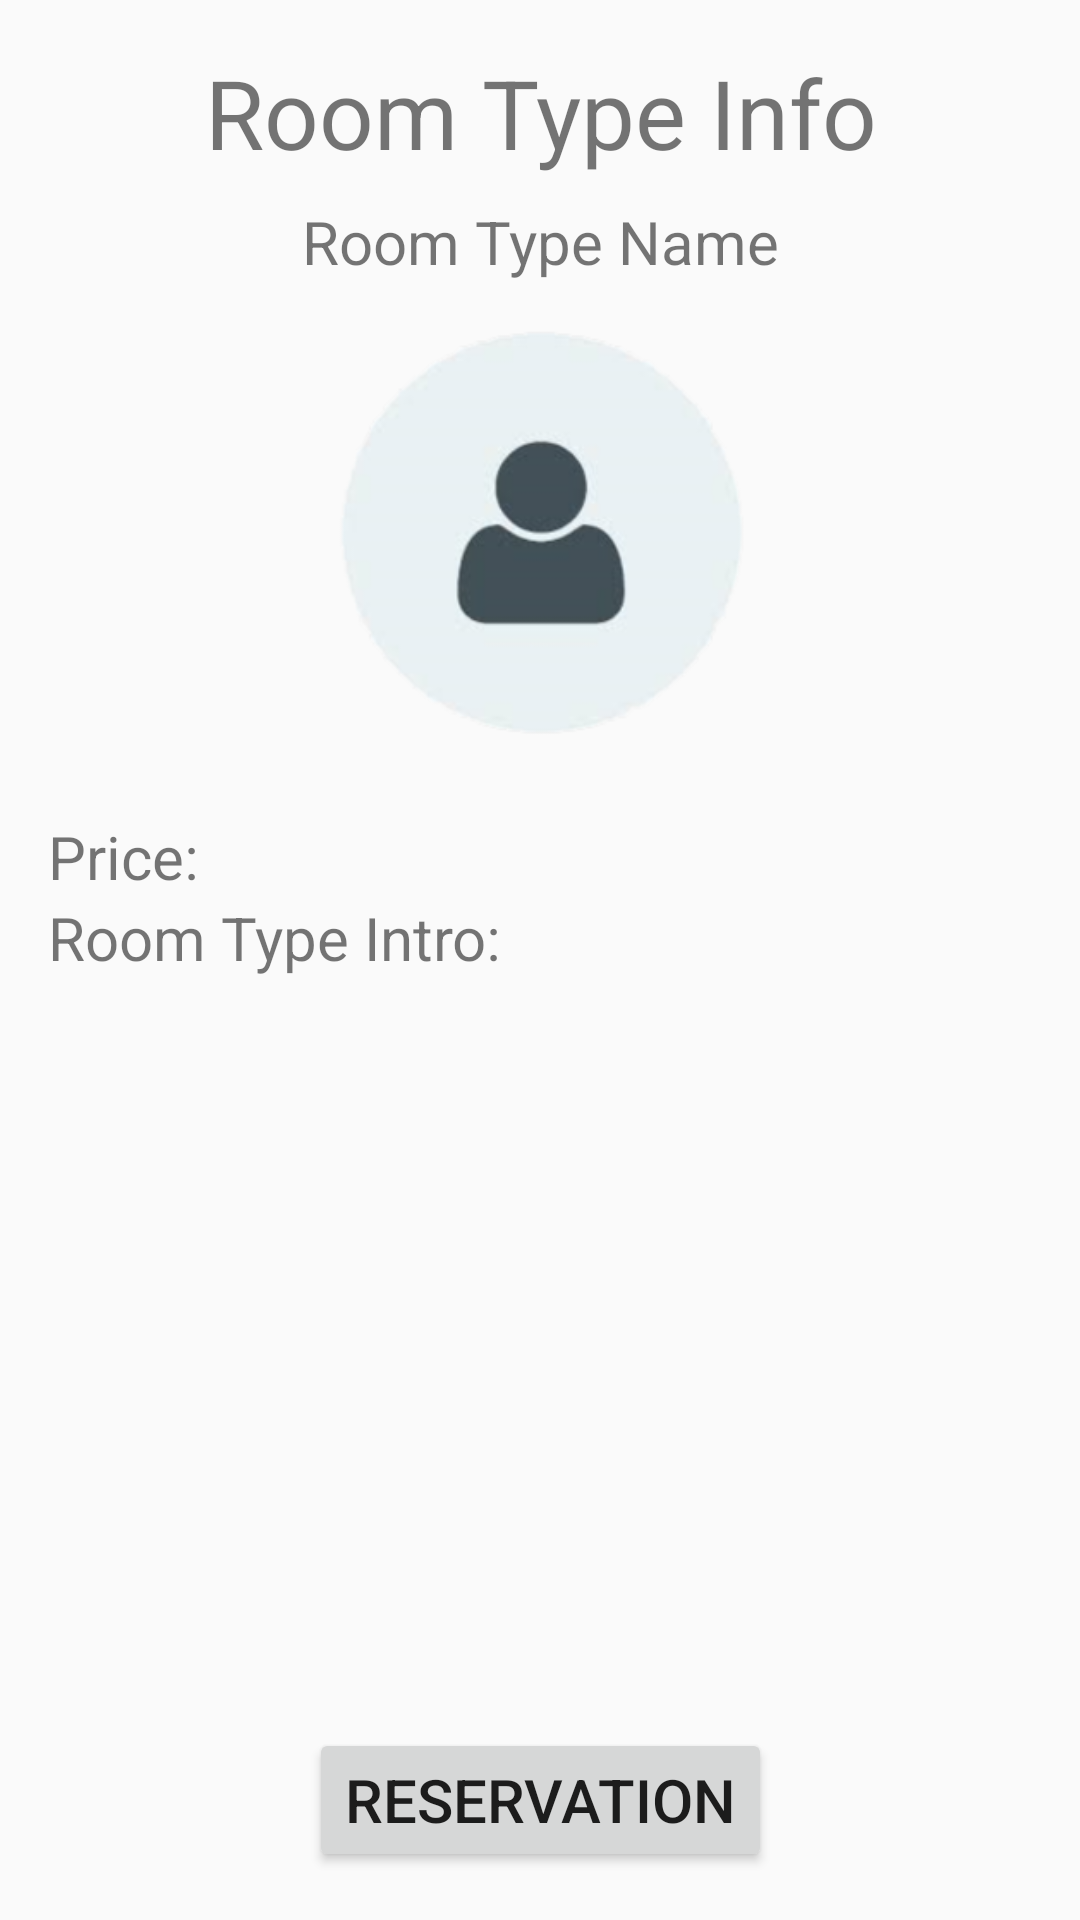

Point at icon controls on the screen. Image size 1080 × 1920, points as point (x, y).
person: point (541, 533)
